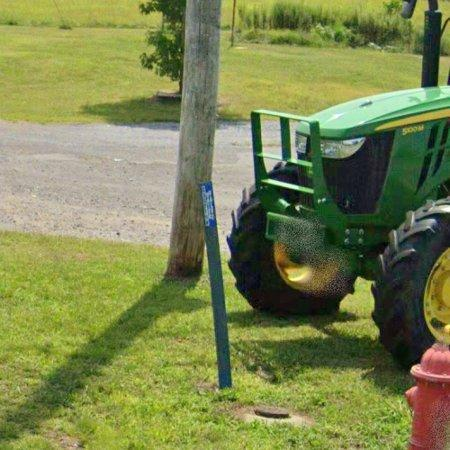tractors: (228, 86, 450, 369), (379, 171, 387, 181)
